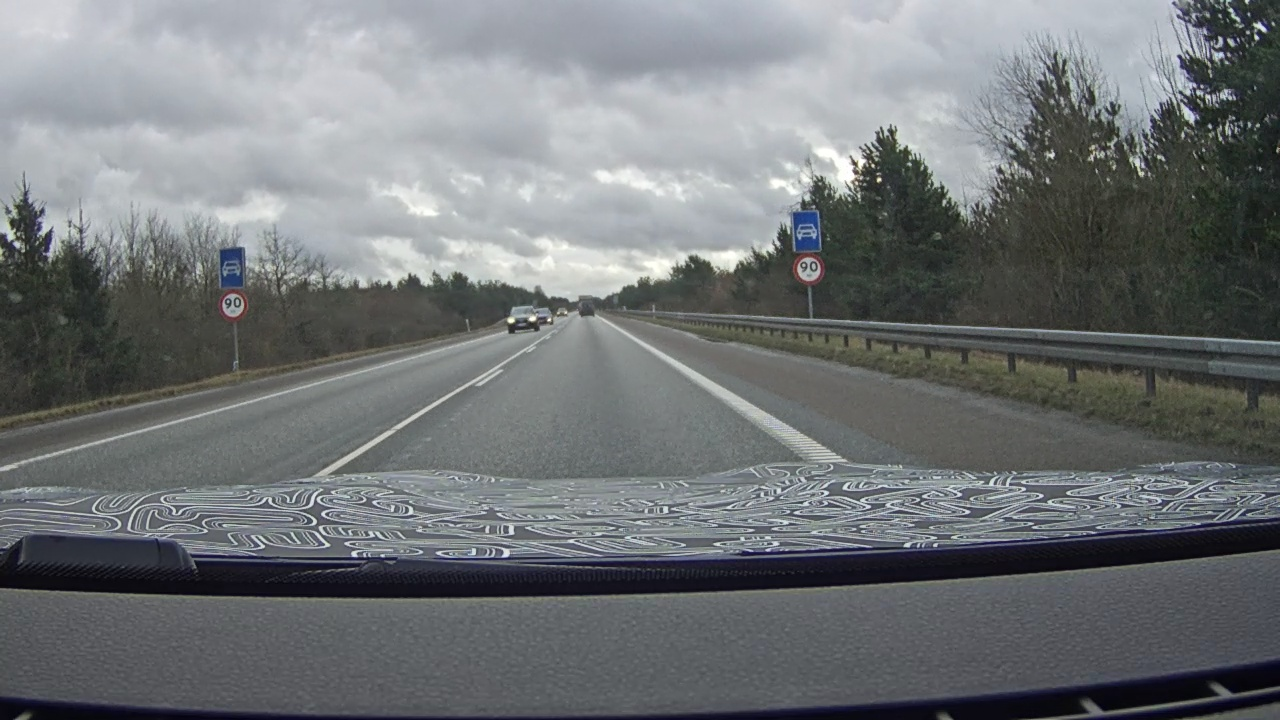Expressway_Begin: (790, 209, 822, 253), (219, 247, 245, 289)
